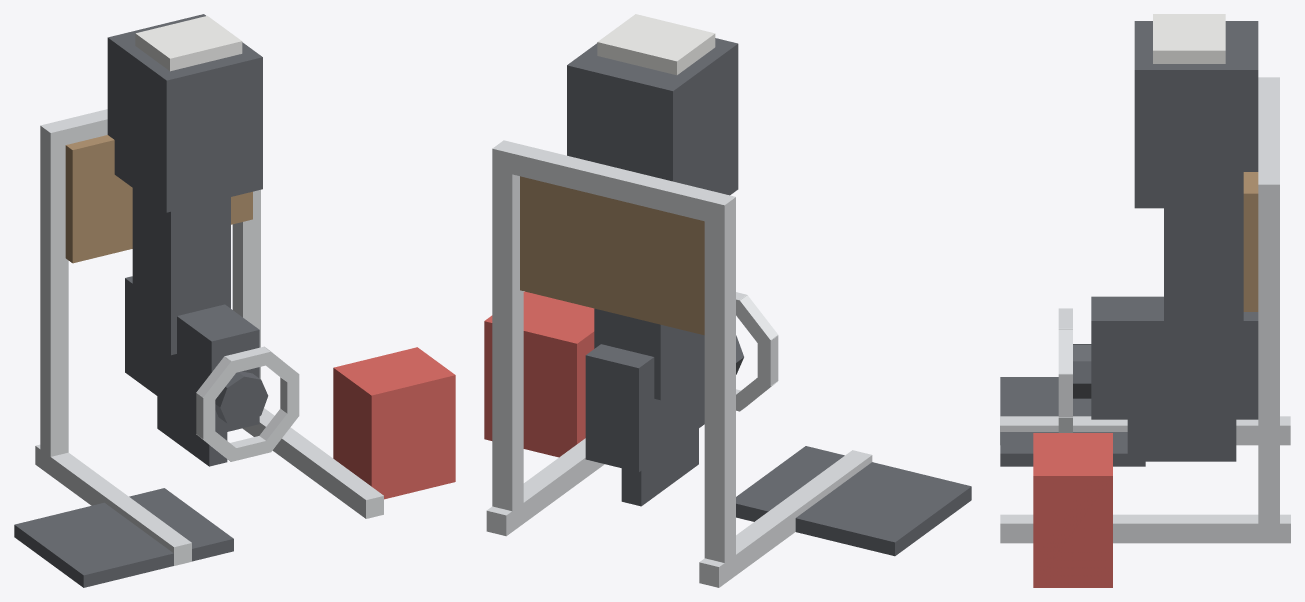
Rendered from marina-and-yacht-club-marina-and-yacht-club-outboard-m-8d2a8529__38317.glb.
3 views of the same model, side by side, from view 1: azimuth 30°, elevation 25°; view 2: azimuth 150°, elevation 25°; view 3: azimuth 270°, elevation 25° (orthographic). The views are drawn at different scales.
Visible parts, largest first — view 1: marina-and-yacht-club-outboard-motor-stand; view 2: marina-and-yacht-club-outboard-motor-stand; view 3: marina-and-yacht-club-outboard-motor-stand.
Boxes of the visible parts, bbox=[...] form: marina-and-yacht-club-outboard-motor-stand: bbox=[14, 14, 455, 587]; marina-and-yacht-club-outboard-motor-stand: bbox=[484, 14, 971, 587]; marina-and-yacht-club-outboard-motor-stand: bbox=[1000, 14, 1290, 587].
Bounding box in the file's own units: 1.29 × 1.39 × 0.8012.
